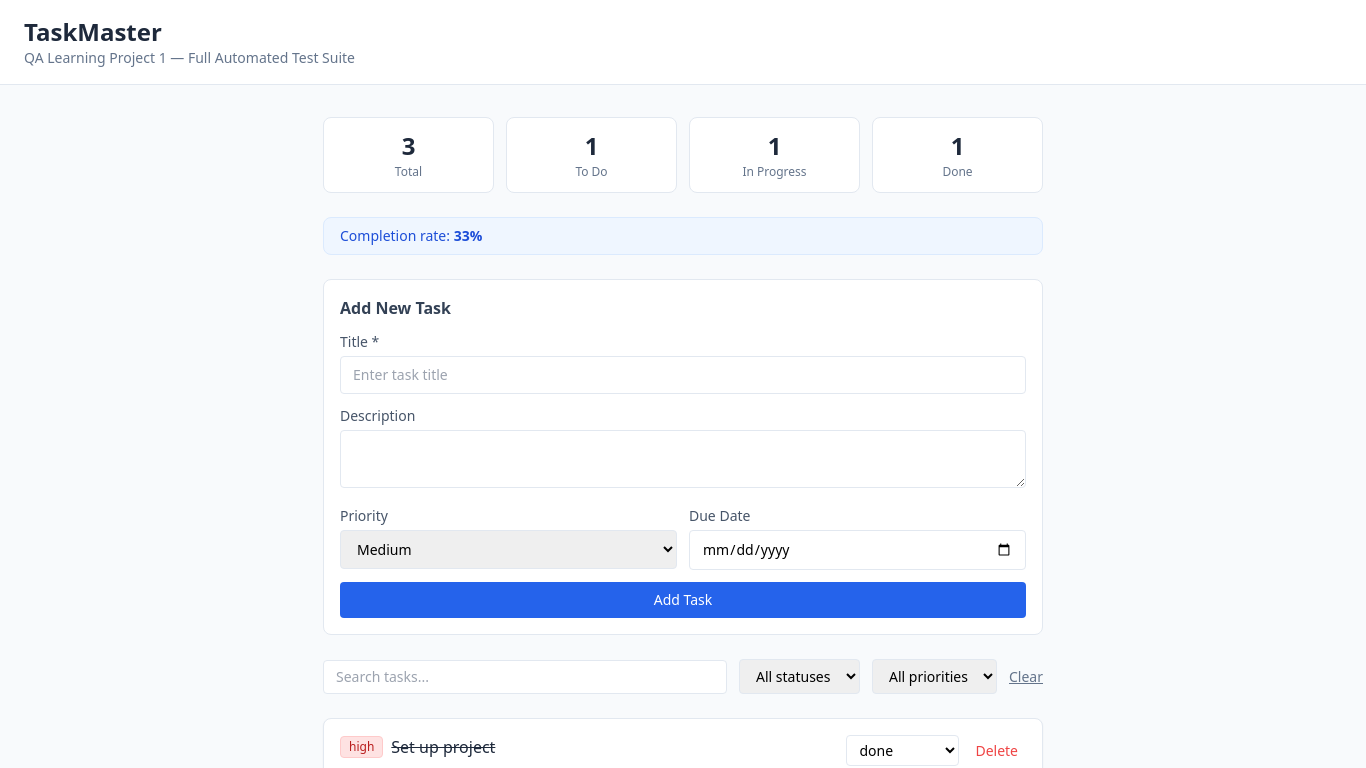
Task management flow › restores all tasks when search is cleared
Expected: the heading "Set up project" is shown, [391,735,495,759]
Step 1. Type "Review" into the search field → (525, 676), box [323,660,727,694]
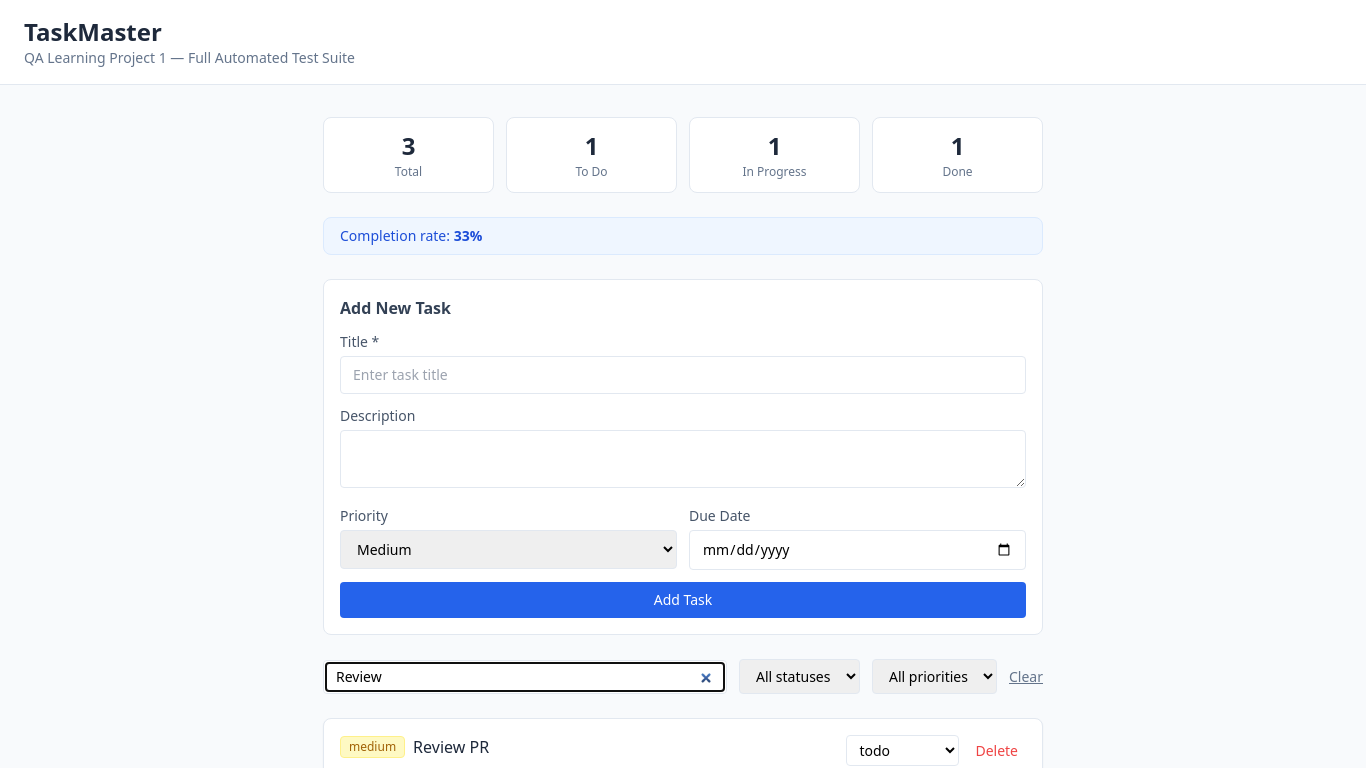
Step 2. Click the button "Clear" → click(1026, 676), box [1009,666,1043,686]
(page scrolled)
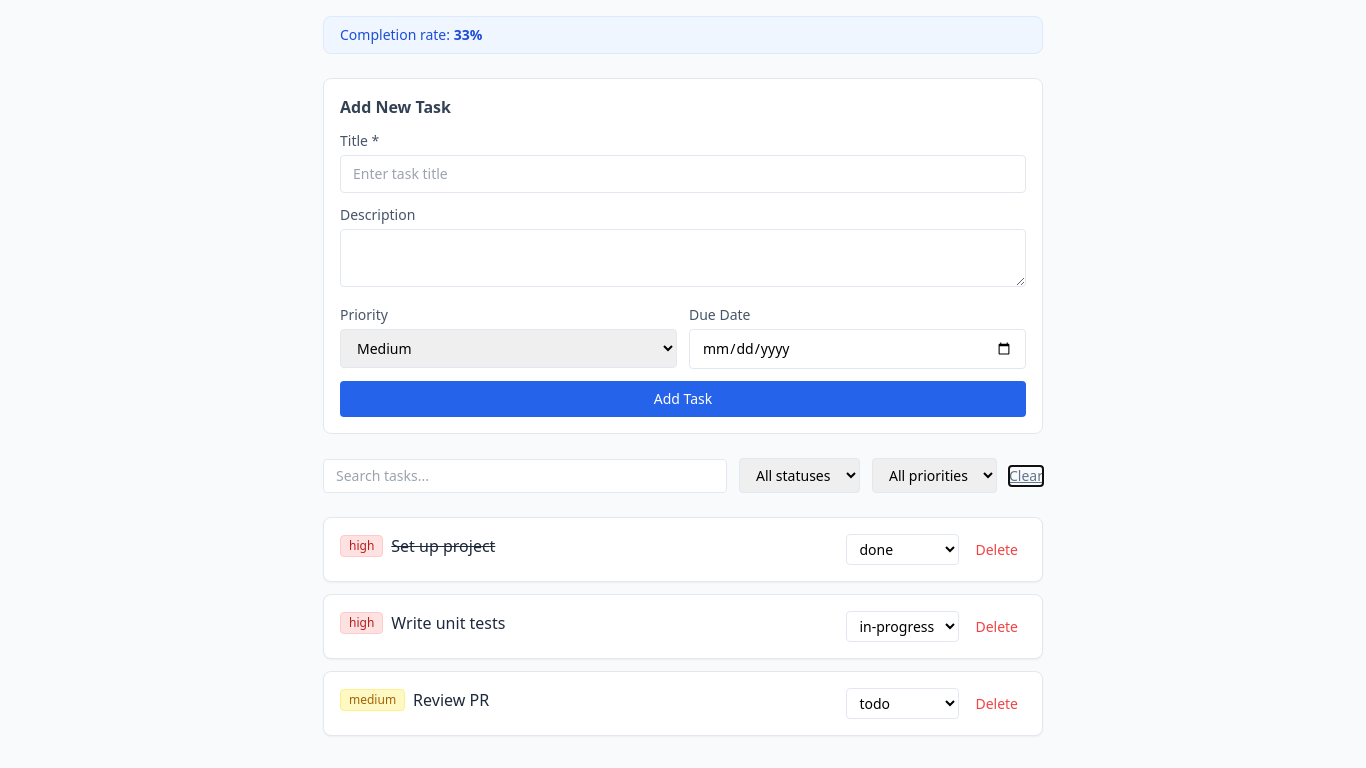
Expected: the heading "Set up project" is shown, [391,534,495,558]
Expected: the heading "Write unit tests" is shown, [391,611,506,635]
